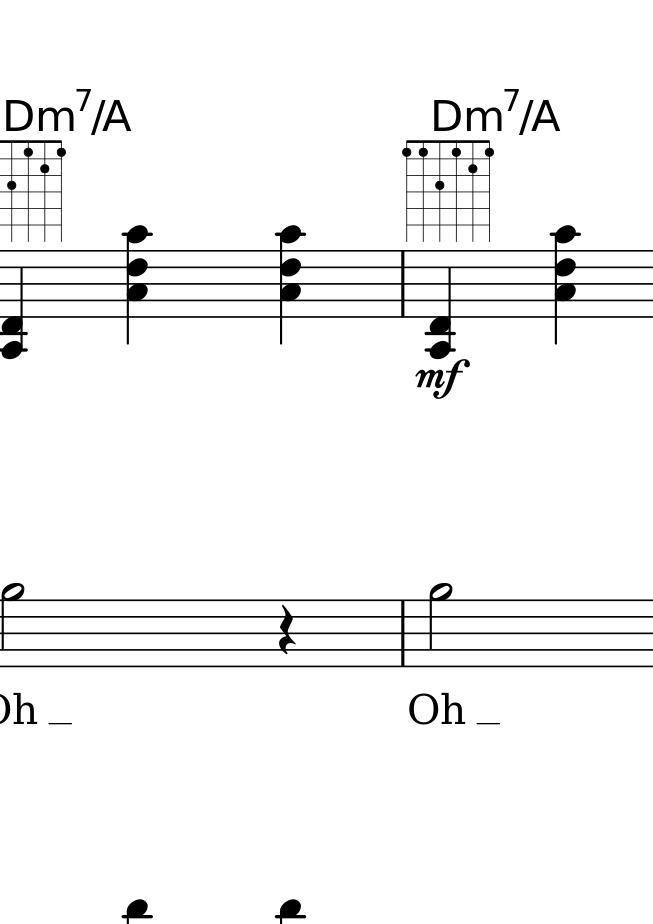2_9: (427, 580, 451, 669), (1, 581, 25, 668)
4_-4_-1: (427, 248, 455, 360), (1, 249, 28, 361)
4_th: (547, 223, 583, 346), (274, 223, 309, 347), (120, 223, 154, 346)
Fretboard: (401, 136, 496, 243)
Rests4: (276, 604, 297, 655)
Single_barline: (393, 248, 412, 319), (397, 598, 412, 672)
mf: (416, 358, 472, 400)
